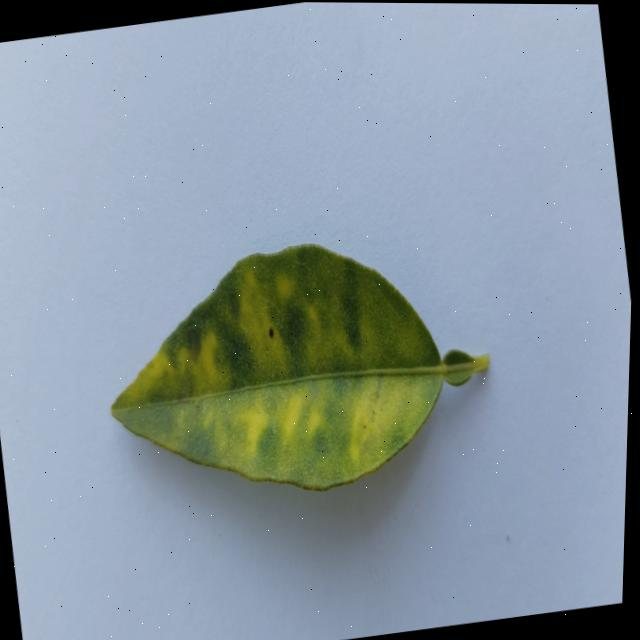greening: (112, 244, 489, 489)
